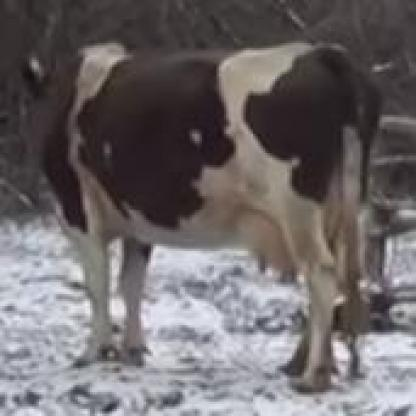cow: (33, 44, 378, 394)
